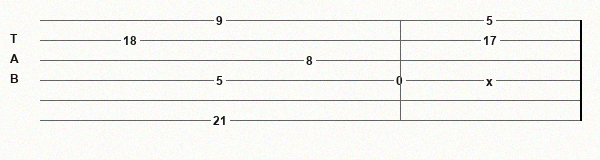0: (396, 74, 407, 87)
17: (483, 34, 501, 47)
18: (123, 34, 141, 47)
21: (213, 114, 231, 127)
5: (216, 74, 227, 87), (486, 14, 497, 27)
8: (306, 54, 317, 67)
9: (216, 14, 227, 27)
x: (486, 75, 497, 86)
